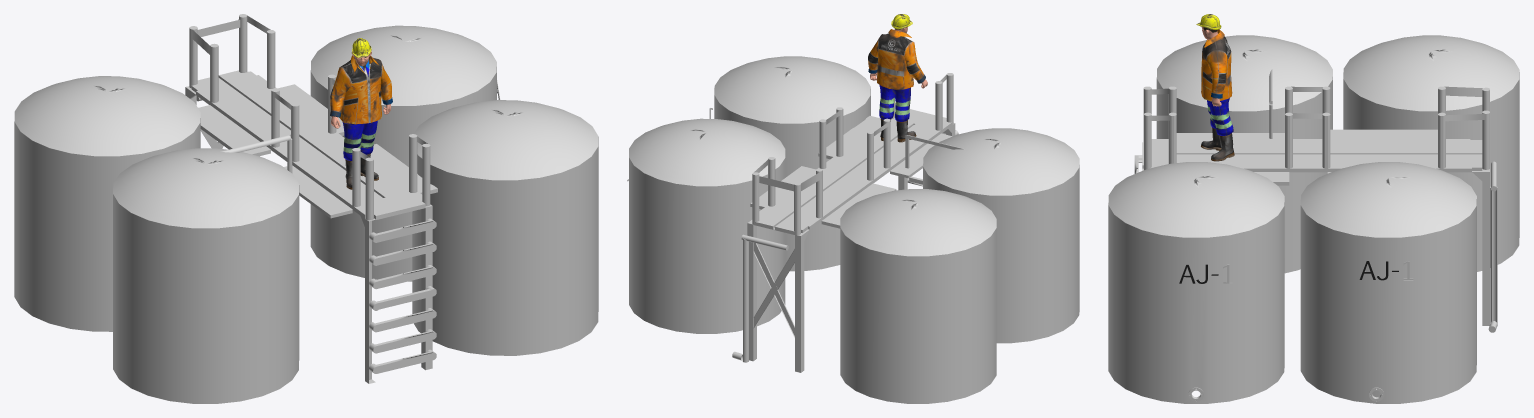
File: plataforma.fbx
3 renders of one model, left to right at view 1: azimuth 30°, elevation 25°; view 2: azimuth 150°, elevation 25°; view 3: azimuth 270°, elevation 25°, orthographic. The views are drawn at different scales.
Parts seen in each view (by area): view 1: Model, skpUX7NTu1; view 2: Model, skpUX7NTu1; view 3: Model, skpUX7NTu1.
Part boxes in pixels (x1,y1,x2,y2): Model: (14,14,598,403); skpUX7NTu1: (330,38,392,189); Model: (627,56,1079,403); skpUX7NTu1: (868,14,927,142); Model: (1108,35,1519,403); skpUX7NTu1: (1196,14,1234,161).
Size of the model in its own units: 6.22 by 4.21 by 5.32.
